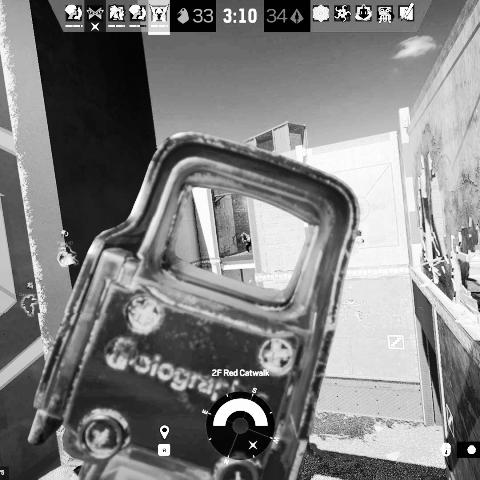Character: (240, 232, 253, 253)
Friend_label: (18, 281, 42, 297), (56, 228, 73, 246)
Head: (241, 232, 246, 237)
